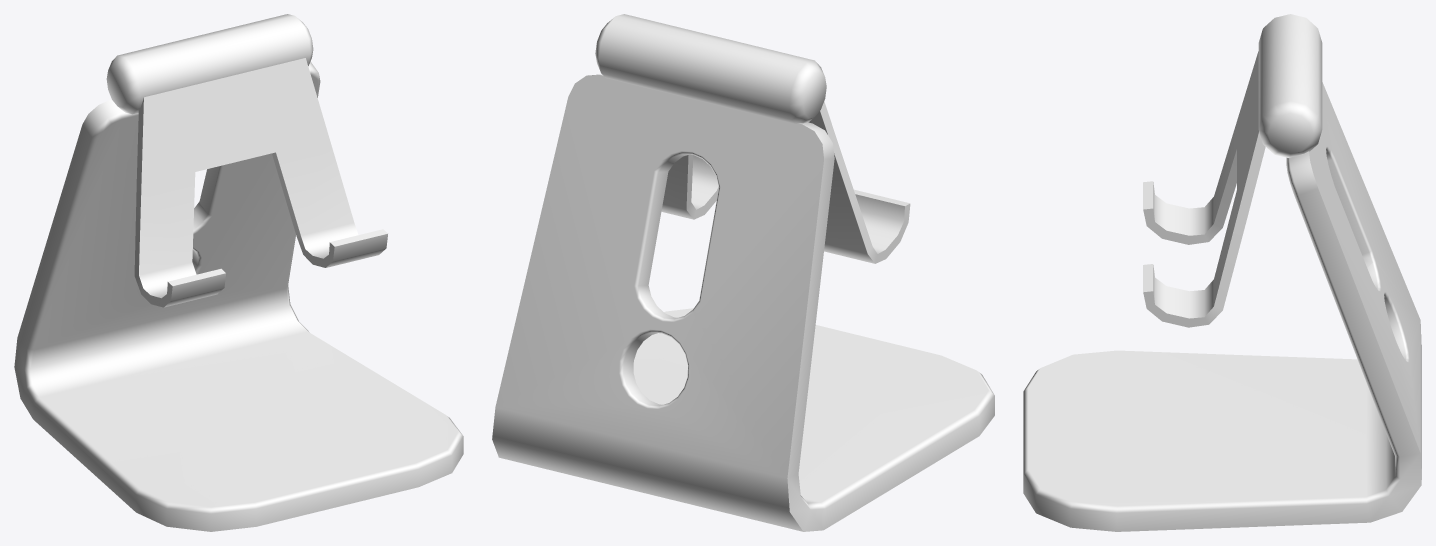
File: iphone stand 1.fbx
The picture shows the model from 3 angles, left to right: view 1: azimuth 30°, elevation 25°; view 2: azimuth 150°, elevation 25°; view 3: azimuth 270°, elevation 25°; orthographic projection. The views are drawn at different scales.
Visible parts, largest first — view 1: phone_stand; view 2: phone_stand; view 3: phone_stand.
Boxes of the visible parts, x1=… form: phone_stand: x1=14, y1=14, x2=463, y2=531; phone_stand: x1=492, y1=14, x2=994, y2=531; phone_stand: x1=1023, y1=14, x2=1421, y2=531.
Bounding box in the file's own units: 26.26 × 30.14 × 27.59.
